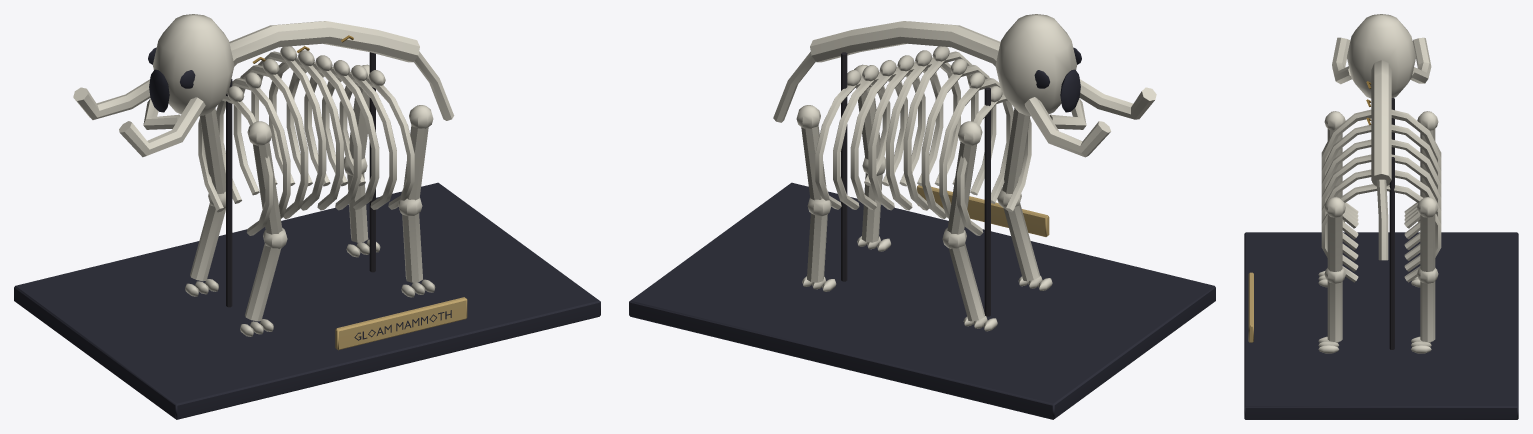
File: skeleton_display.glb
The picture shows the model from 3 angles, left to right: view 1: azimuth 30°, elevation 25°; view 2: azimuth 150°, elevation 25°; view 3: azimuth 270°, elevation 25°; orthographic projection. The views are drawn at different scales.
Parts seen in each view (by area): view 1: skeleton_display, head; view 2: skeleton_display, head; view 3: skeleton_display, head.
Boxes of the visible parts, x1,y1,x2,y2 form: skeleton_display: (14,21,600,419); head: (73,14,234,157); skeleton_display: (629,21,1215,419); head: (995,14,1156,157); skeleton_display: (1244,60,1518,419); head: (1332,14,1431,98).
Size of the model in its own units: 3.85 by 2.78 by 2.55.
